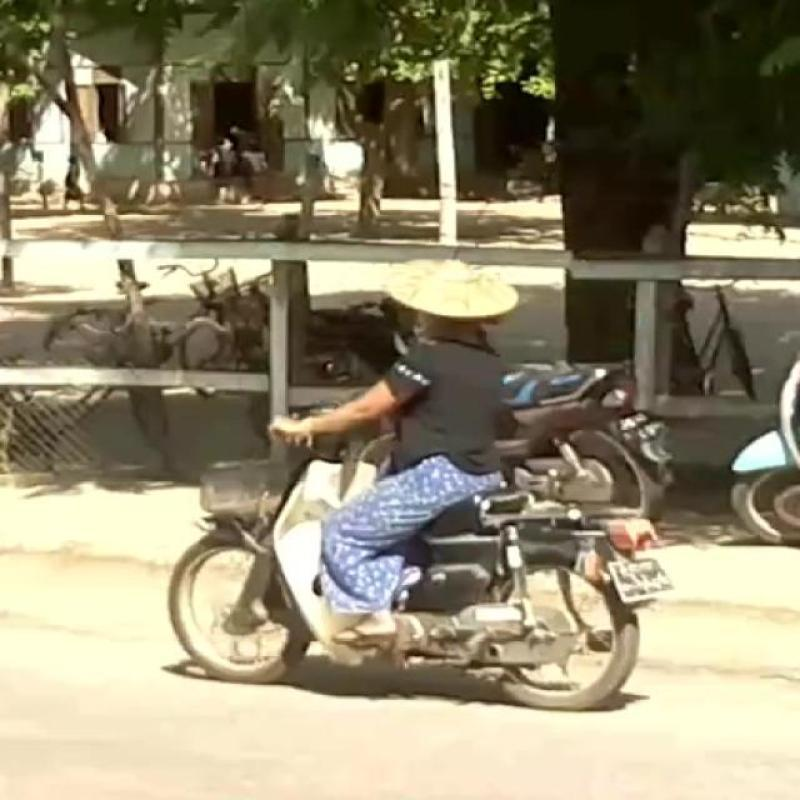nohelmet: (376, 252, 519, 340)
